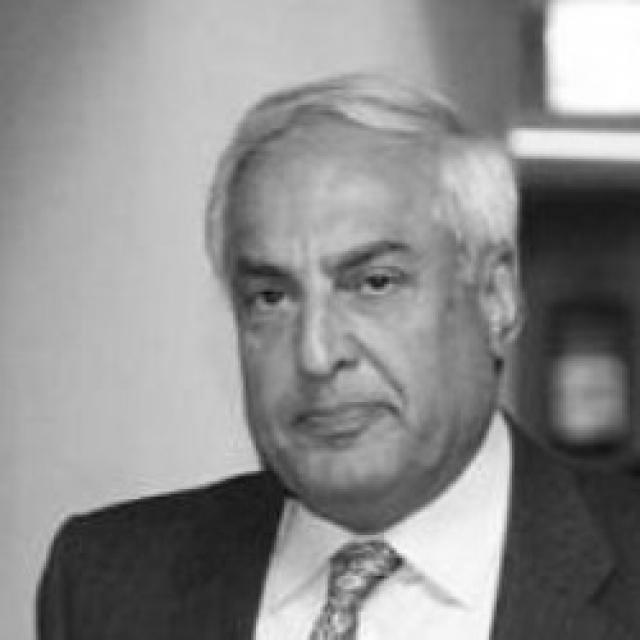real: (207, 87, 512, 517), (235, 257, 428, 325)
